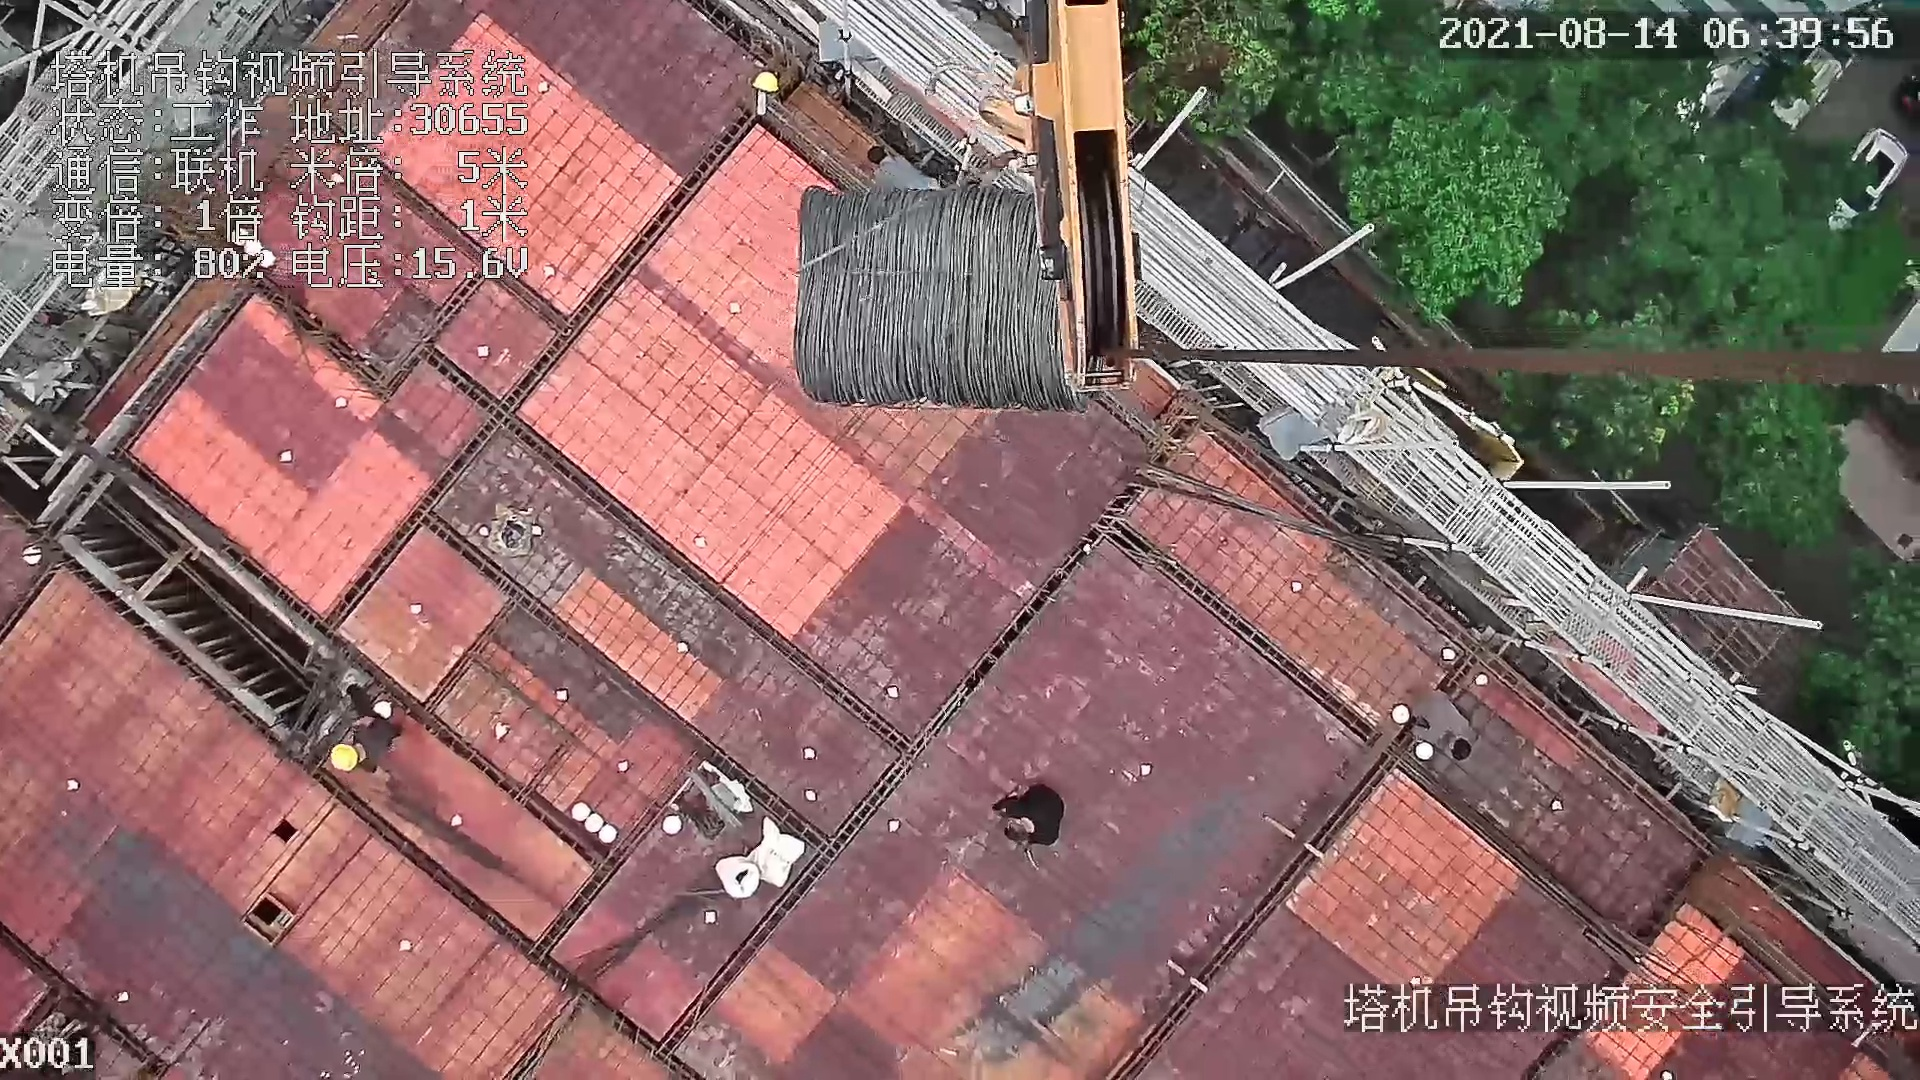helmet: (316, 730, 359, 783), (751, 67, 797, 109)
person: (323, 678, 405, 782), (990, 776, 1069, 863), (1413, 680, 1479, 765)
